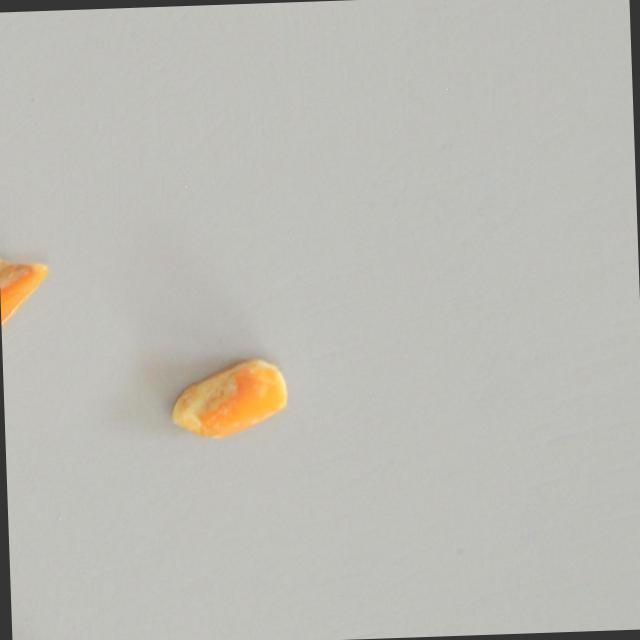dañado: (163, 353, 290, 443), (0, 248, 55, 362)
